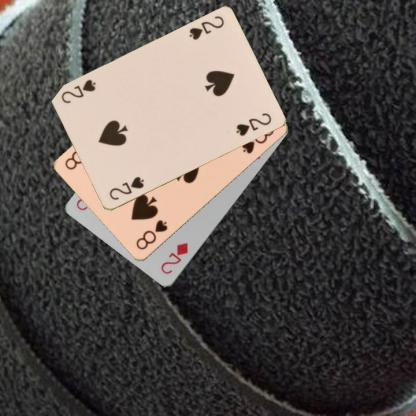2d: (158, 240, 190, 276)
2s: (186, 13, 225, 42), (106, 174, 146, 202)
8s: (134, 218, 170, 252)
